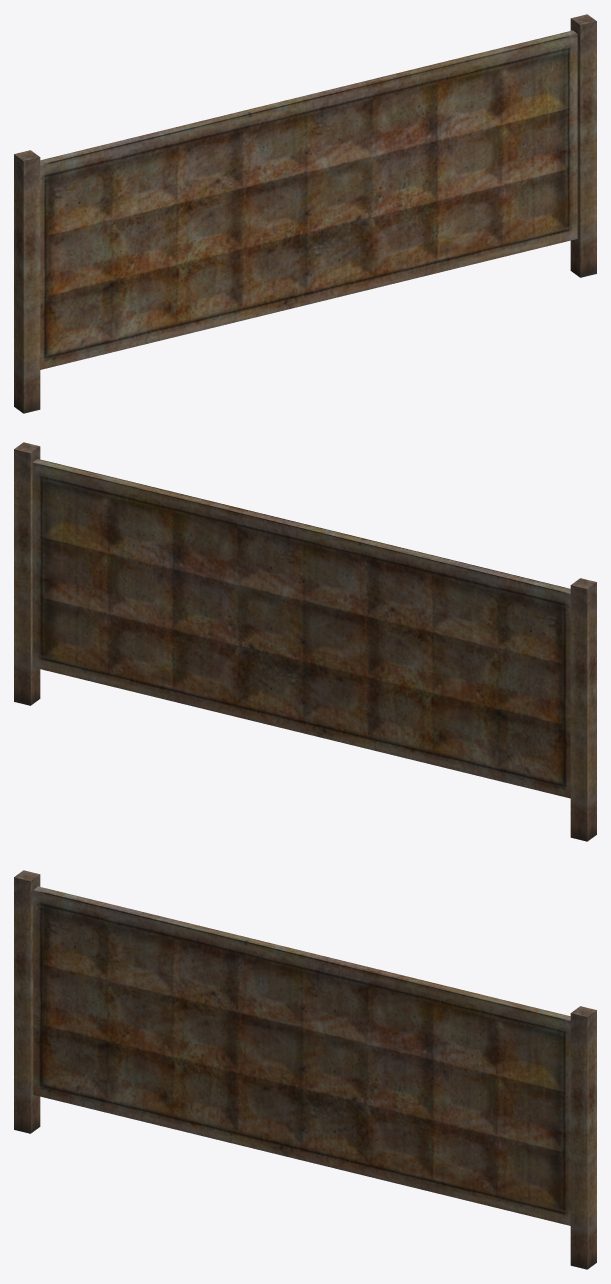
The model's file is fanceMetal.fbx.
The picture shows the model from 3 angles, top to bottom: view 1: azimuth 30°, elevation 25°; view 2: azimuth 150°, elevation 25°; view 3: azimuth 330°, elevation 25°; orthographic projection.
Visible parts, largest first — view 1: fence.001; view 2: fence.001; view 3: fence.001.
Part boxes in pixels (bbox=[...]): fence.001: bbox=[14, 14, 596, 413]; fence.001: bbox=[14, 442, 596, 841]; fence.001: bbox=[14, 870, 596, 1269].
Bounding box in the file's own units: 2.87 × 1.21 × 0.0831.
